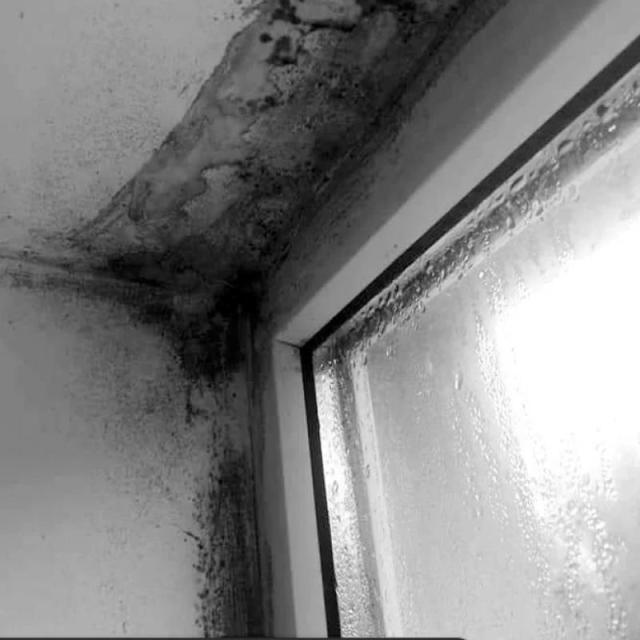stain marks: (11, 0, 532, 639)
